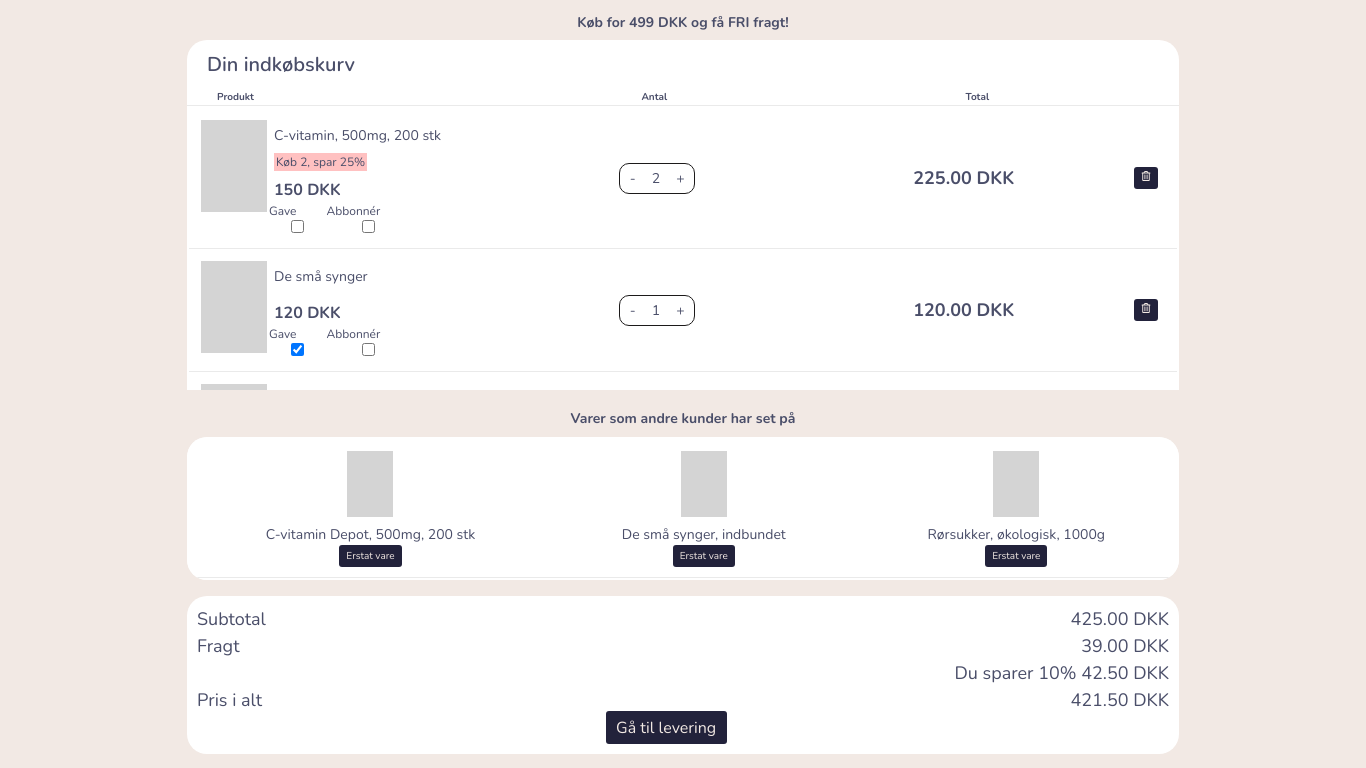
ShoppingList › Let user remove item
The image size is (1366, 768).
Click the button named "fjern C-vitamin, 500mg, 200 stk": {"x": 1146, "y": 178} [1134,167,1158,189]
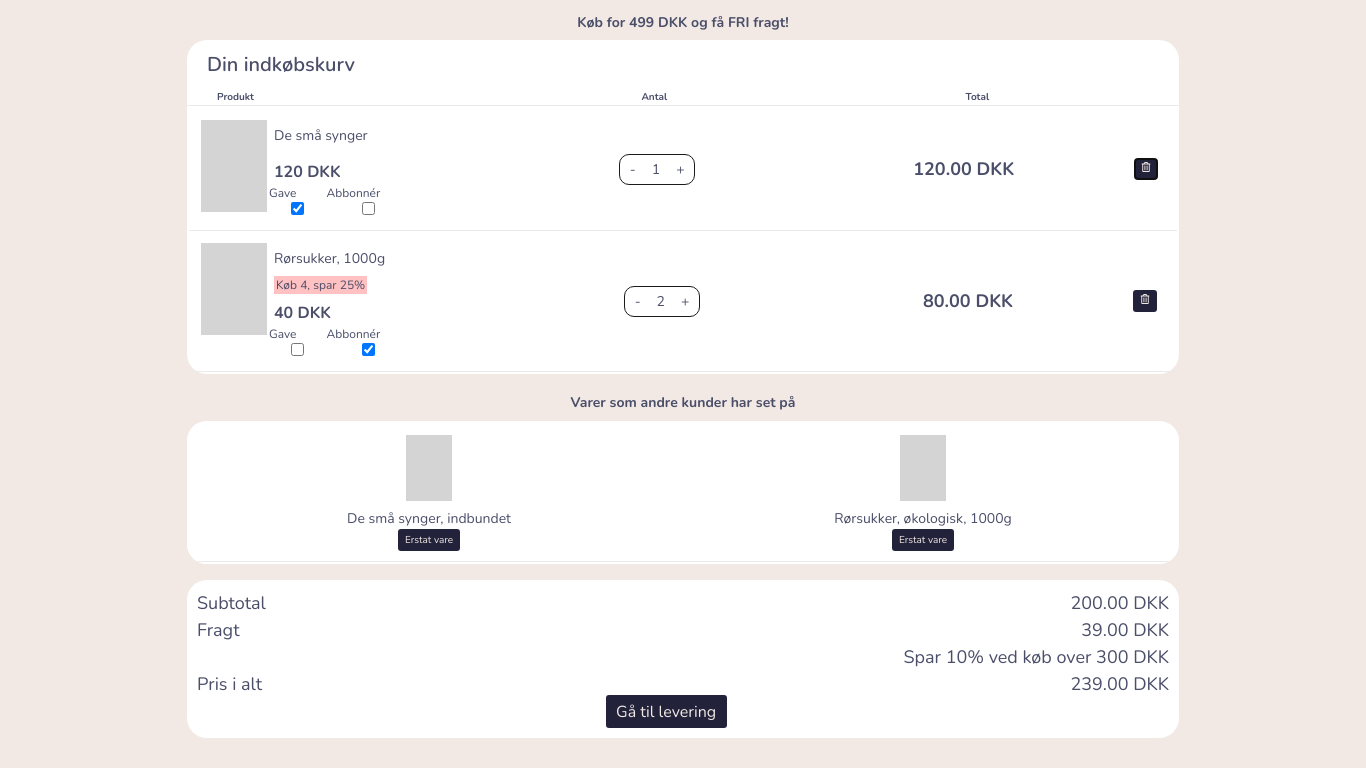
Now the number of rows named "pris" is 2, box [189,108,1177,231]; [189,231,1177,372]
Now the text named "Subtotal 200.00 DKK" is shown, box [1070,590,1169,617]
